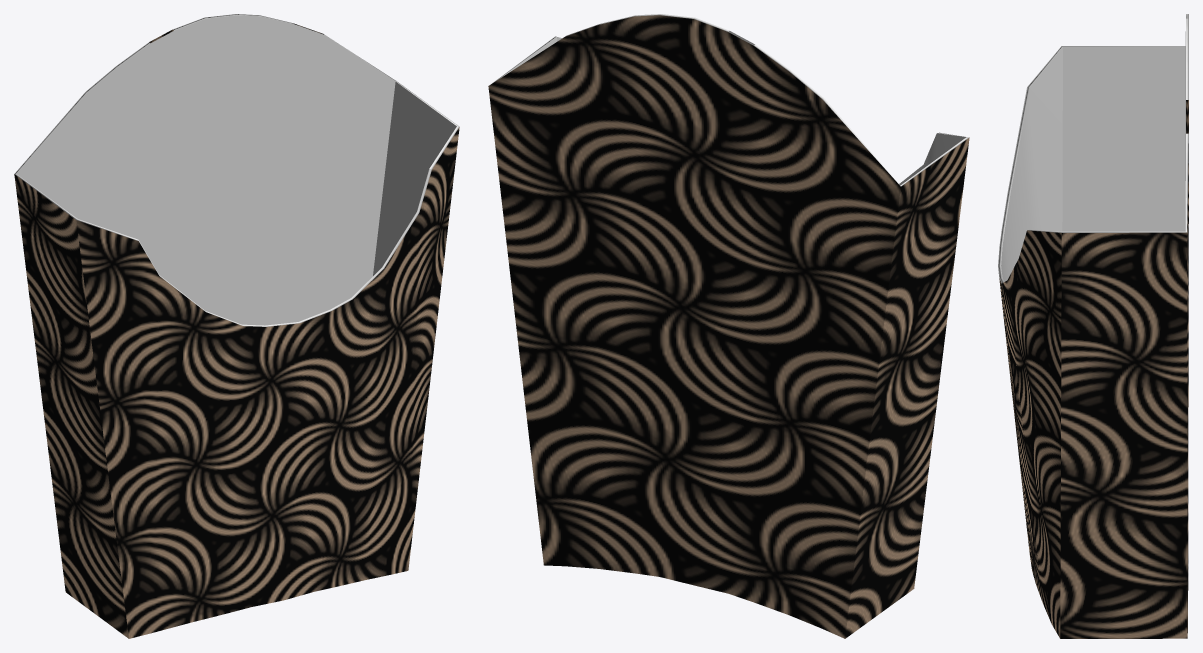
Rendered from 01.Friench fries-1.glb.
3 views of the same model, side by side, from view 1: azimuth 30°, elevation 25°; view 2: azimuth 150°, elevation 25°; view 3: azimuth 270°, elevation 25° (orthographic). The views are drawn at different scales.
Visible parts, largest first — view 1: french_frice_packet_french_fries_0.001; view 2: french_frice_packet_french_fries_0.001; view 3: french_frice_packet_french_fries_0.001.
Boxes of the visible parts, <box> form: french_frice_packet_french_fries_0.001: <box>14,14,459,638</box>; french_frice_packet_french_fries_0.001: <box>488,14,969,638</box>; french_frice_packet_french_fries_0.001: <box>998,14,1188,638</box>.
Bounding box in the file's own units: 13.04 × 17.56 × 5.62.
2 materials, 1 textured.
